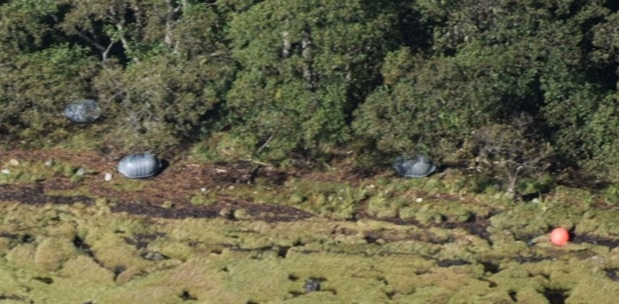white_in_green: (374, 124, 462, 204), (96, 123, 182, 203), (47, 79, 120, 141), (530, 206, 595, 265)
